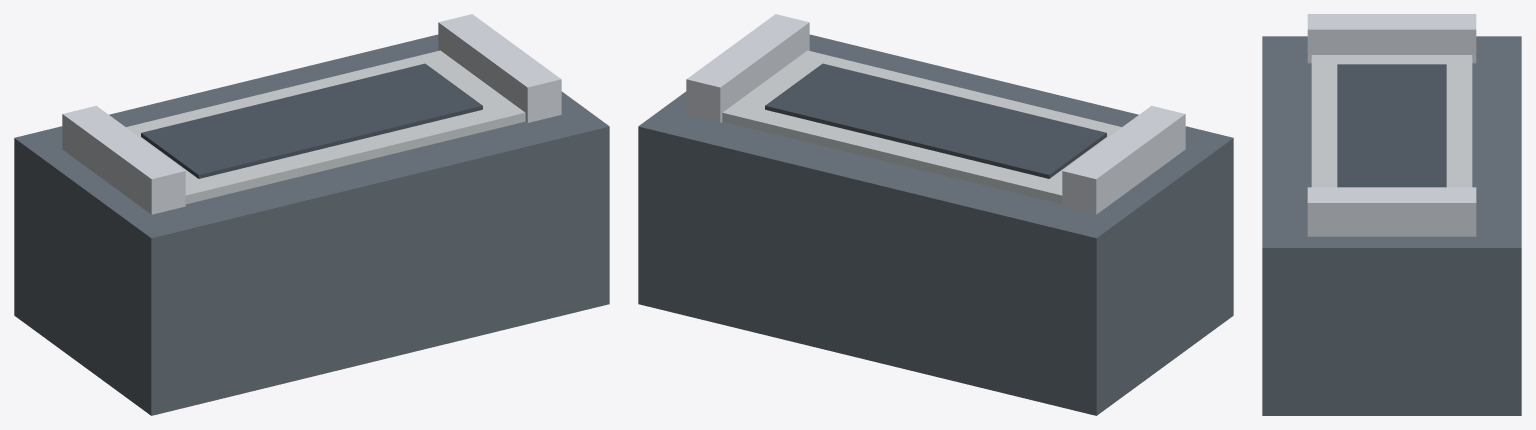
The picture shows the model from 3 angles, left to right: view 1: azimuth 30°, elevation 25°; view 2: azimuth 150°, elevation 25°; view 3: azimuth 270°, elevation 25°; orthographic projection. The views are drawn at different scales.
Parts seen in each view (by area): view 1: connector_housing__PSMAT__connector_housing, optic_black__PSMAT__optic_black, silver__PSMAT__silver, shield__PSMAT__shield; view 2: connector_housing__PSMAT__connector_housing, optic_black__PSMAT__optic_black, silver__PSMAT__silver, shield__PSMAT__shield; view 3: connector_housing__PSMAT__connector_housing, silver__PSMAT__silver, optic_black__PSMAT__optic_black, shield__PSMAT__shield.
Part boxes in pixels (x1,y1,x2,y2): connector_housing__PSMAT__connector_housing: (14, 34, 609, 415); optic_black__PSMAT__optic_black: (141, 63, 482, 178); silver__PSMAT__silver: (62, 14, 561, 214); shield__PSMAT__shield: (126, 50, 525, 204); connector_housing__PSMAT__connector_housing: (638, 34, 1233, 415); optic_black__PSMAT__optic_black: (765, 63, 1106, 178); silver__PSMAT__silver: (686, 14, 1185, 214); shield__PSMAT__shield: (722, 50, 1121, 204); connector_housing__PSMAT__connector_housing: (1262, 36, 1521, 415); silver__PSMAT__silver: (1307, 14, 1476, 236); optic_black__PSMAT__optic_black: (1337, 64, 1446, 187); shield__PSMAT__shield: (1311, 55, 1472, 187).
Size of the model in its own units: 0.027 by 0.012 by 0.014.
